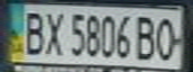0: (100, 11, 118, 58)
5: (66, 9, 87, 57)
6: (115, 12, 136, 60)
8: (81, 10, 103, 58)
B: (18, 8, 48, 56), (133, 12, 160, 62)
O: (151, 14, 184, 62)
X: (42, 8, 66, 56)
